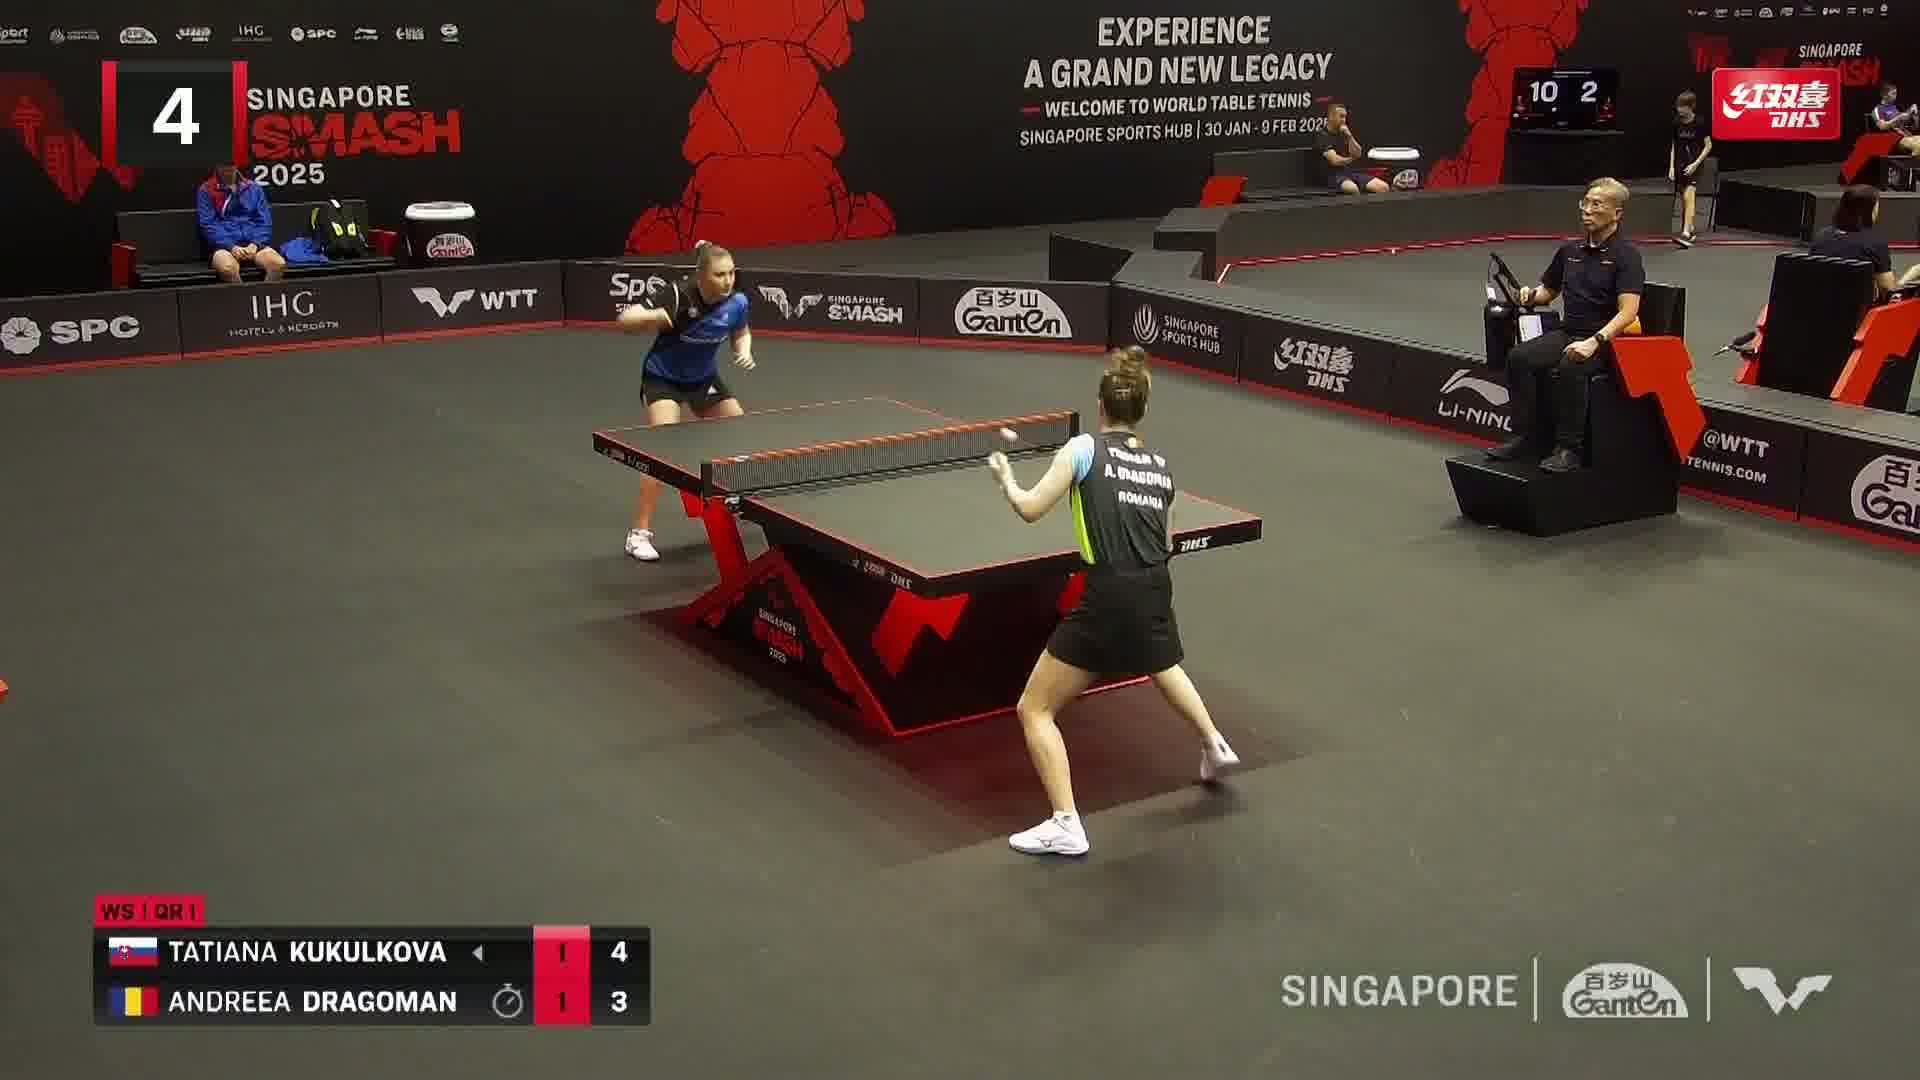table_tennis_ball: (1000, 427, 1018, 442)
